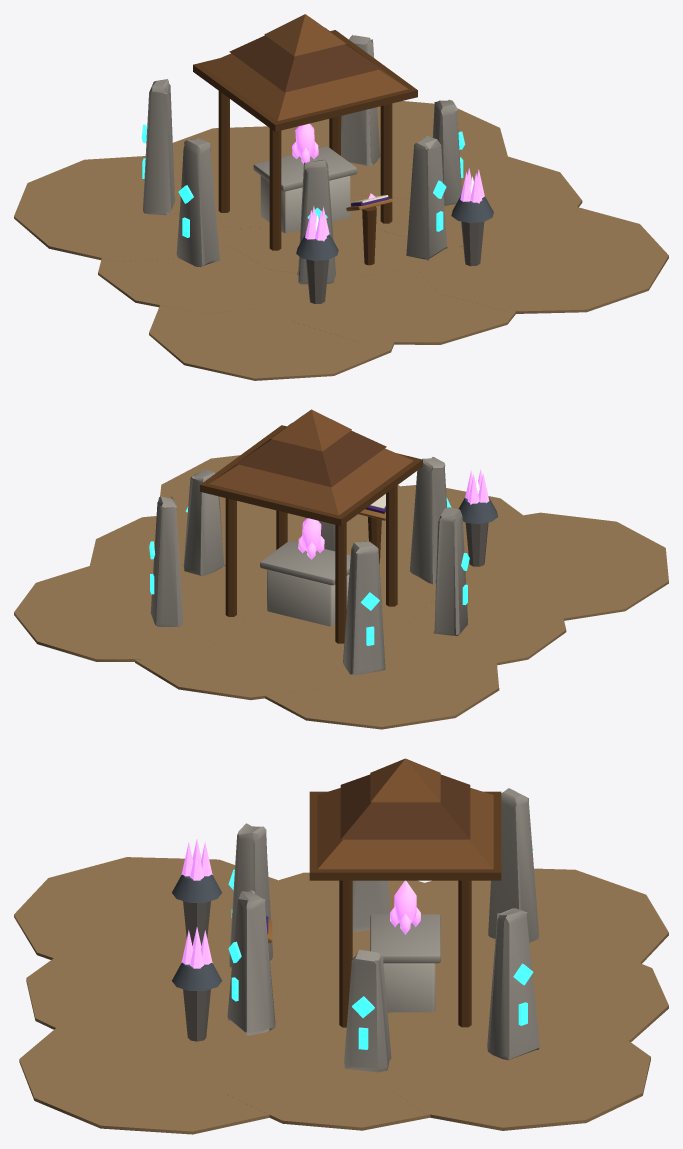
File: budynek_fuzji_poz05.glb
The picture shows the model from 3 angles, top to bottom: view 1: azimuth 30°, elevation 25°; view 2: azimuth 150°, elevation 25°; view 3: azimuth 270°, elevation 25°; orthographic projection. The views are drawn at different scales.
Parts seen in each view (by area): view 1: budynek_fuzji_poz05; view 2: budynek_fuzji_poz05; view 3: budynek_fuzji_poz05.
Part boxes in pixels (bbox=[...]): budynek_fuzji_poz05: bbox=[14, 14, 668, 380]; budynek_fuzji_poz05: bbox=[14, 409, 668, 729]; budynek_fuzji_poz05: bbox=[14, 758, 668, 1134].
Size of the model in its own units: 8.73 by 3.57 by 8.8.
